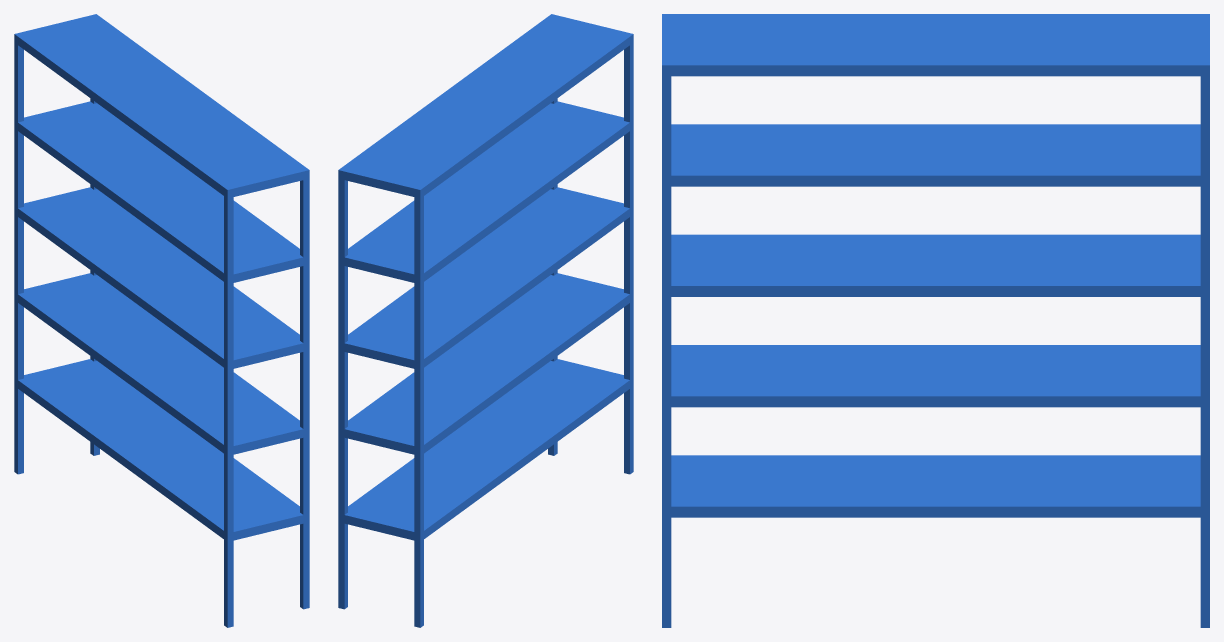
Rendered from Storage_Rack.fbx.
The picture shows the model from 3 angles, left to right: view 1: azimuth 30°, elevation 25°; view 2: azimuth 150°, elevation 25°; view 3: azimuth 270°, elevation 25°; orthographic projection. The views are drawn at different scales.
Parts seen in each view (by area): view 1: Cube; view 2: Cube; view 3: Cube.
Boxes of the visible parts, box(x1,y1,x2,y2) form: Cube: box(14, 14, 309, 627); Cube: box(338, 14, 633, 627); Cube: box(662, 14, 1209, 627).
Bounding box in the file's own units: 40 × 204 × 180.
